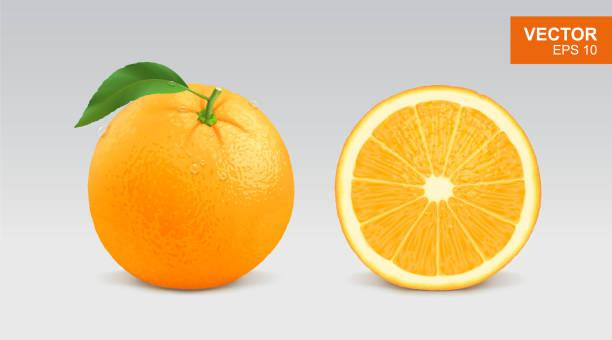cam: (78, 58, 296, 290)
